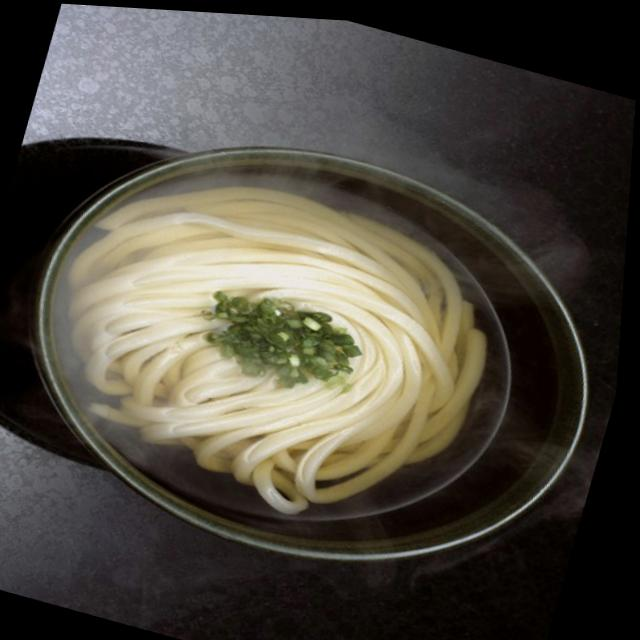面条主食: (0, 107, 597, 585)
